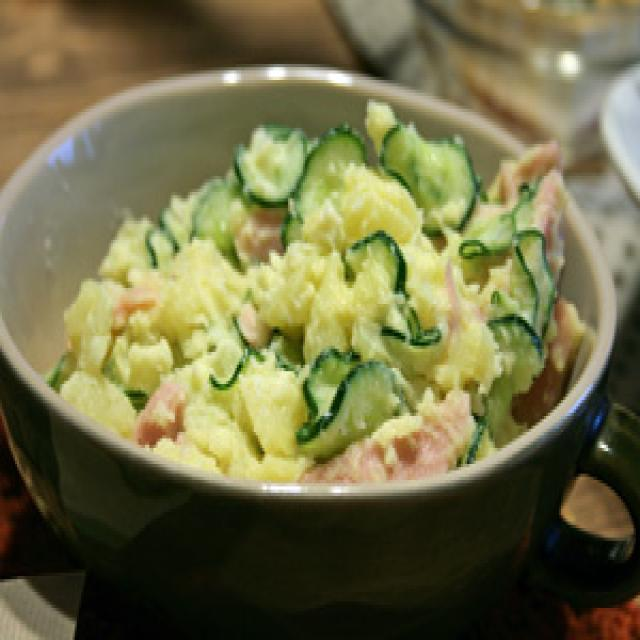蔬菜料理: (0, 41, 616, 640)
